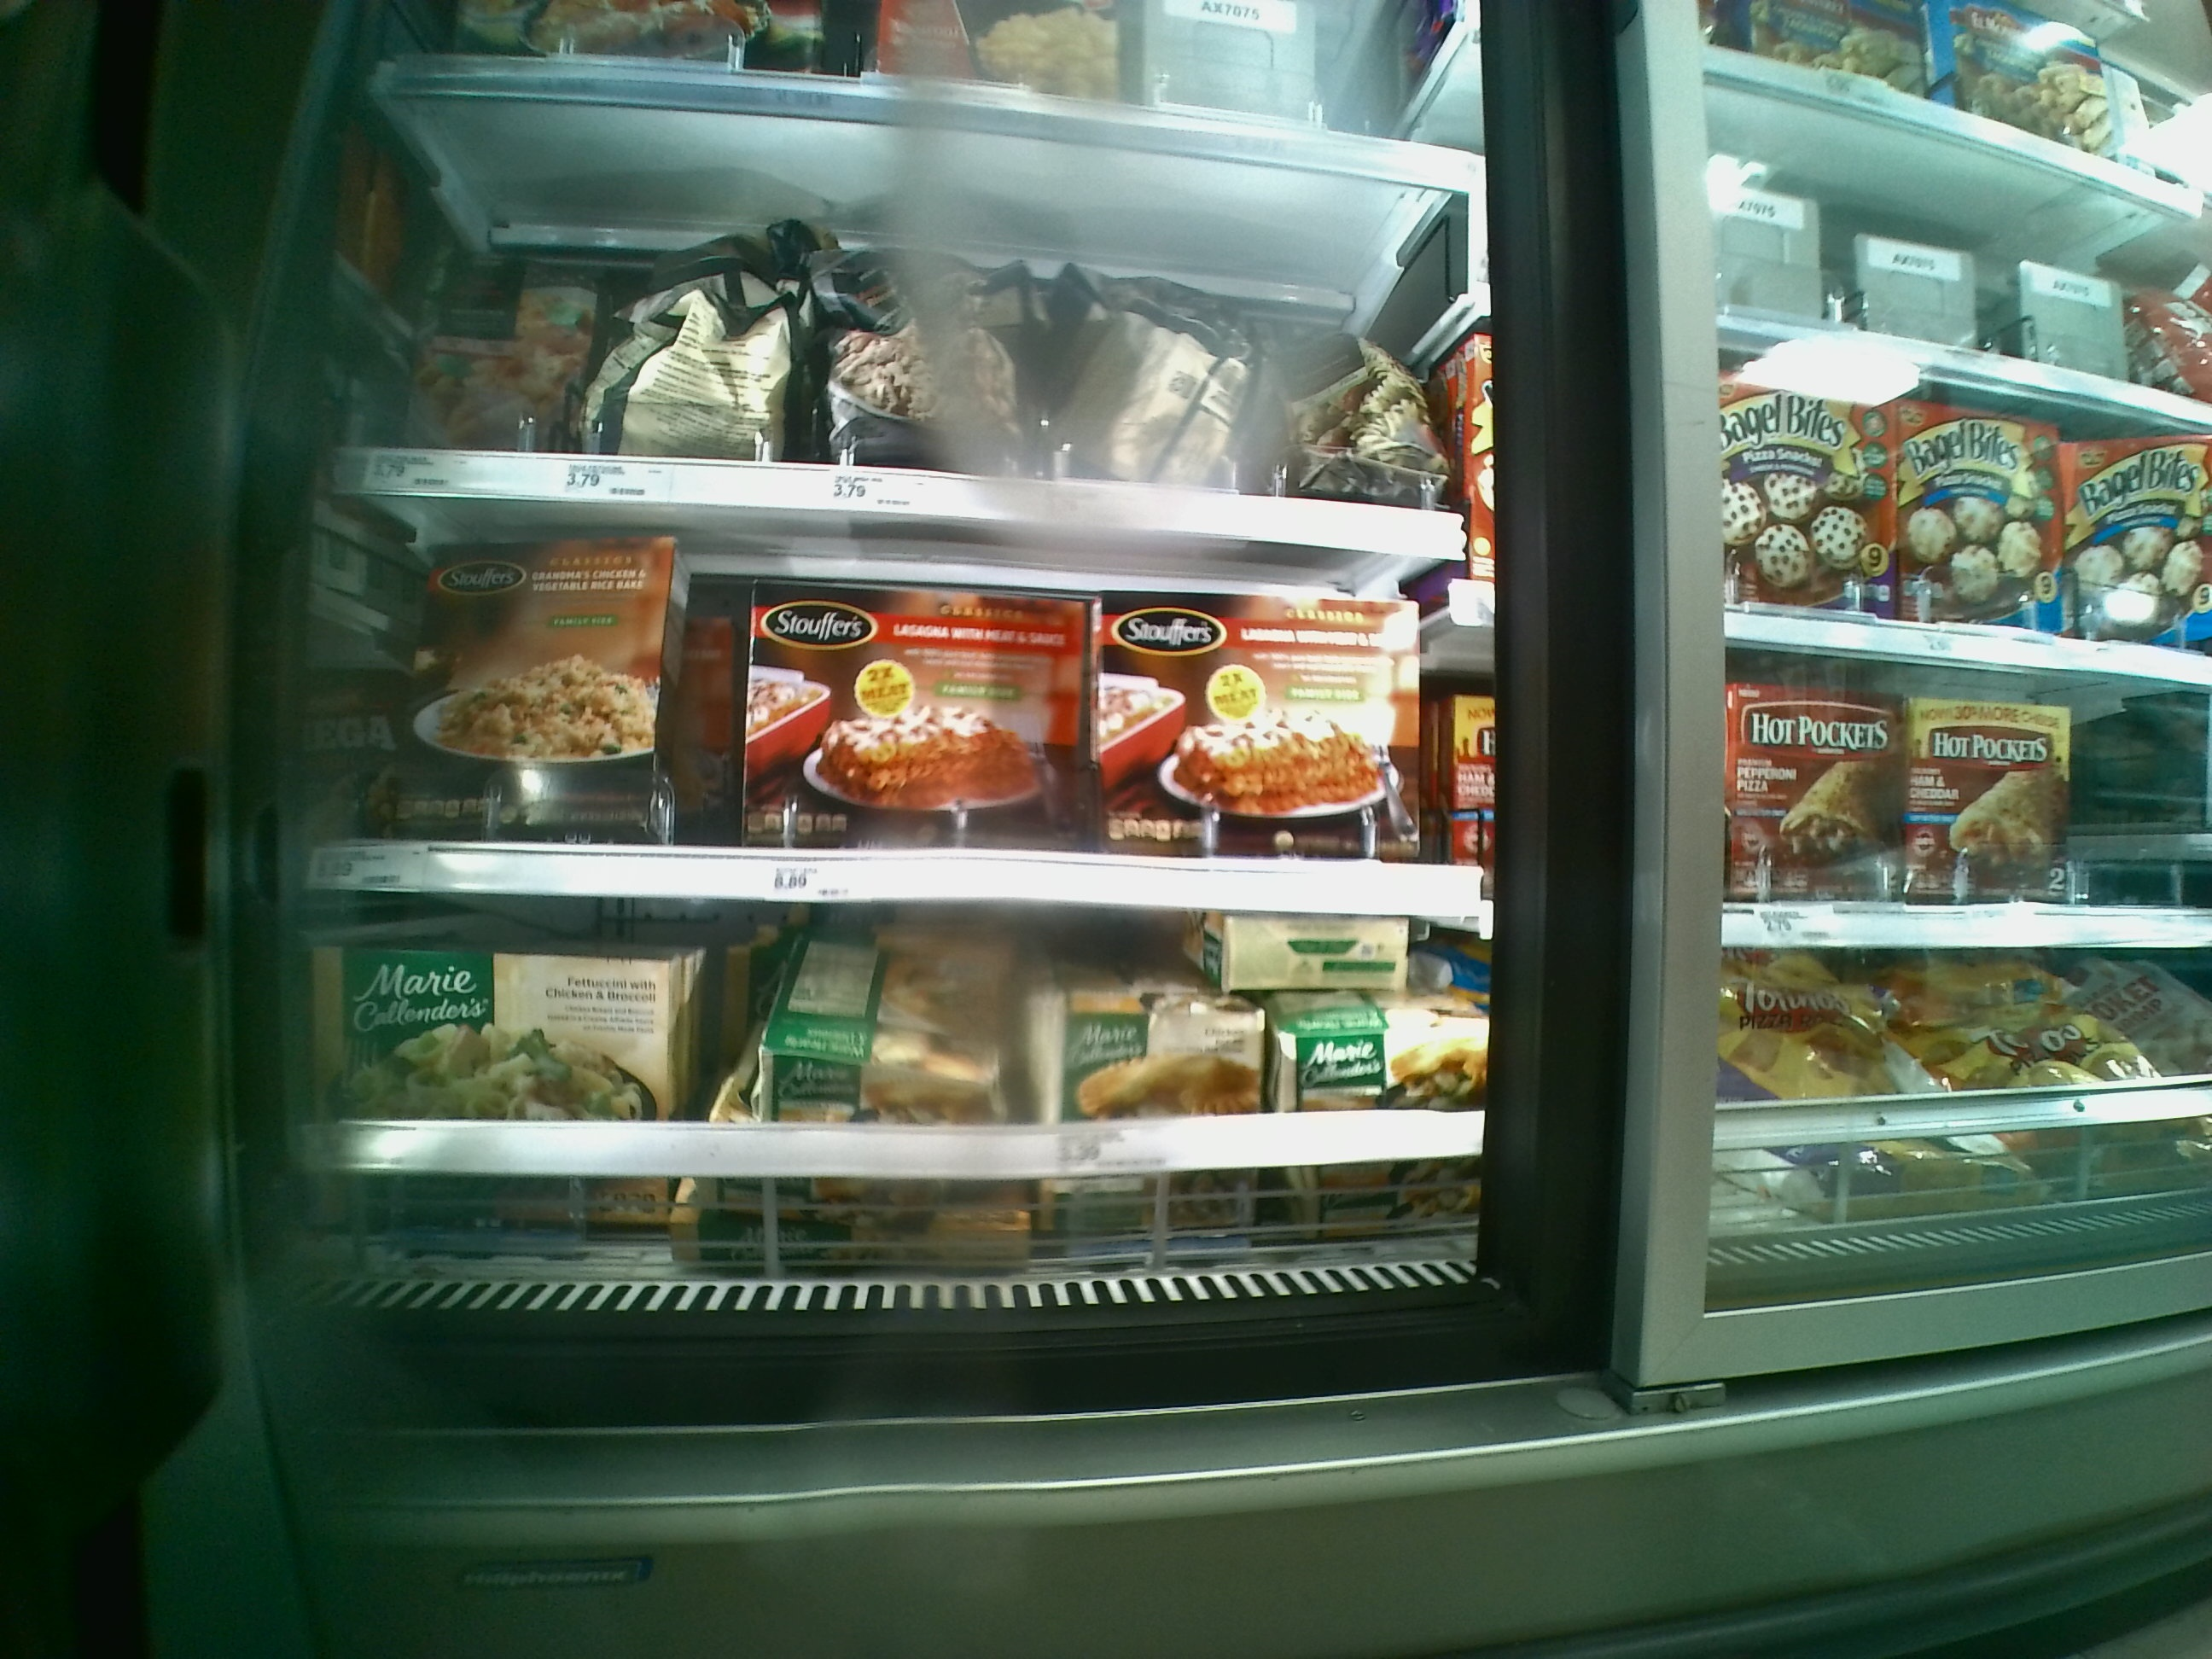shelf: (324, 152, 1474, 544), (317, 518, 1487, 901), (317, 896, 1470, 1270)
